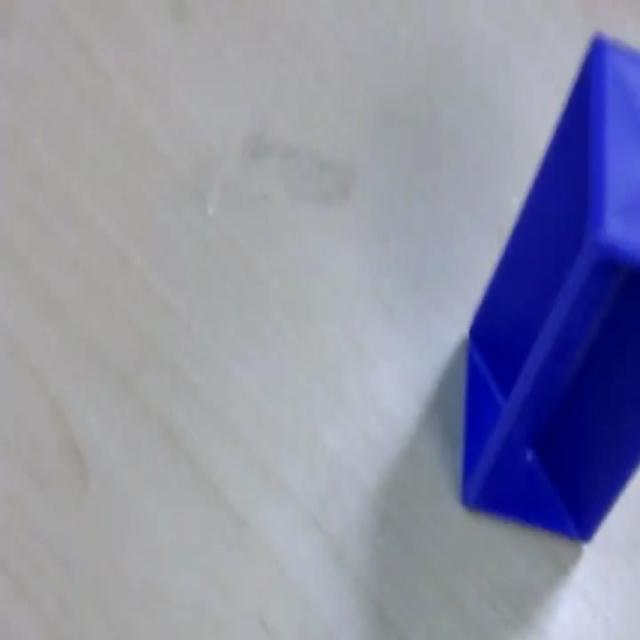blue_block: (458, 28, 638, 544)
